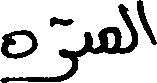ا: (137, 0, 155, 46)
ز: (55, 15, 70, 81)
ل: (119, 0, 137, 55)
م: (99, 1, 122, 53)
ن: (82, 29, 93, 55)
ه: (0, 28, 37, 61)
